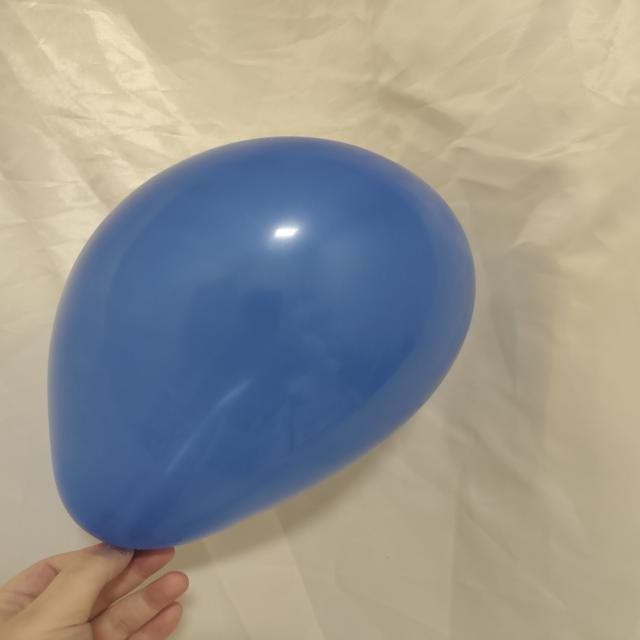balloon: (48, 137, 475, 549)
